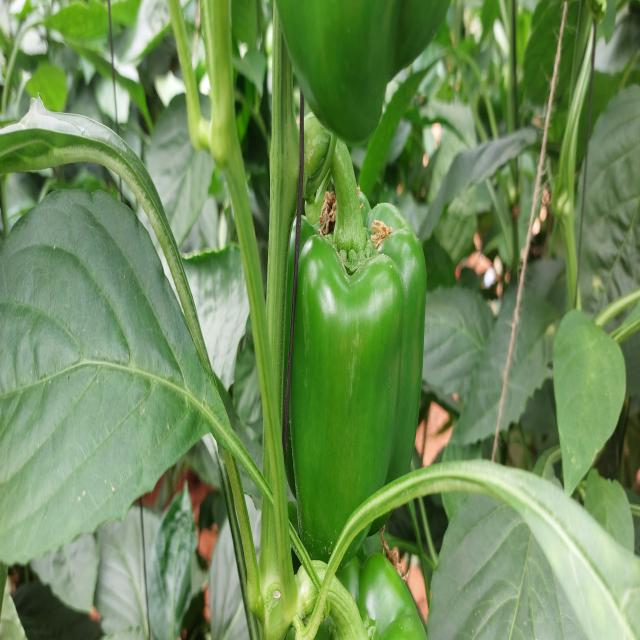Green--Not-ready-to-harvest: (287, 198, 441, 544), (270, 0, 450, 137)
